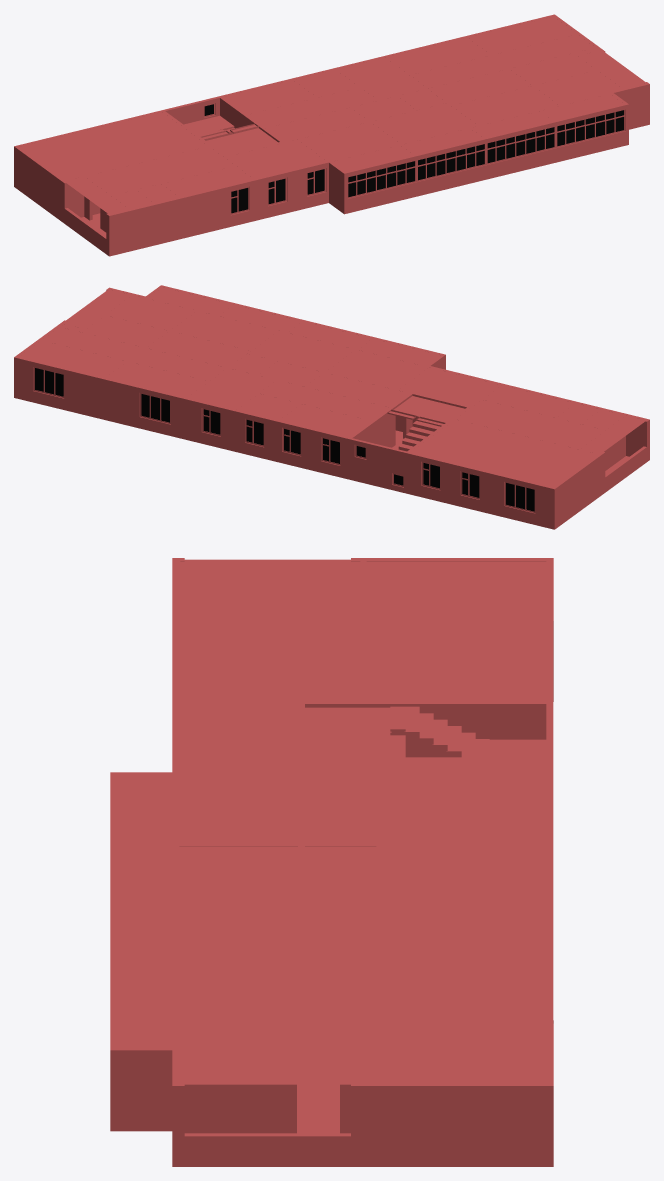
File: SM_house_section_14.fbx
3 renders of one model, top to bottom at view 1: azimuth 30°, elevation 25°; view 2: azimuth 150°, elevation 25°; view 3: azimuth 270°, elevation 25°, orthographic. The views are drawn at different scales.
Parts seen in each view (by area): view 1: Plane_3; view 2: Plane_3; view 3: Plane_3.
Part boxes in pixels (bbox=[...]): Plane_3: bbox=[14, 14, 649, 256]; Plane_3: bbox=[14, 285, 649, 529]; Plane_3: bbox=[110, 558, 553, 1166].
Size of the model in its own units: 3492 by 250 by 1239.
